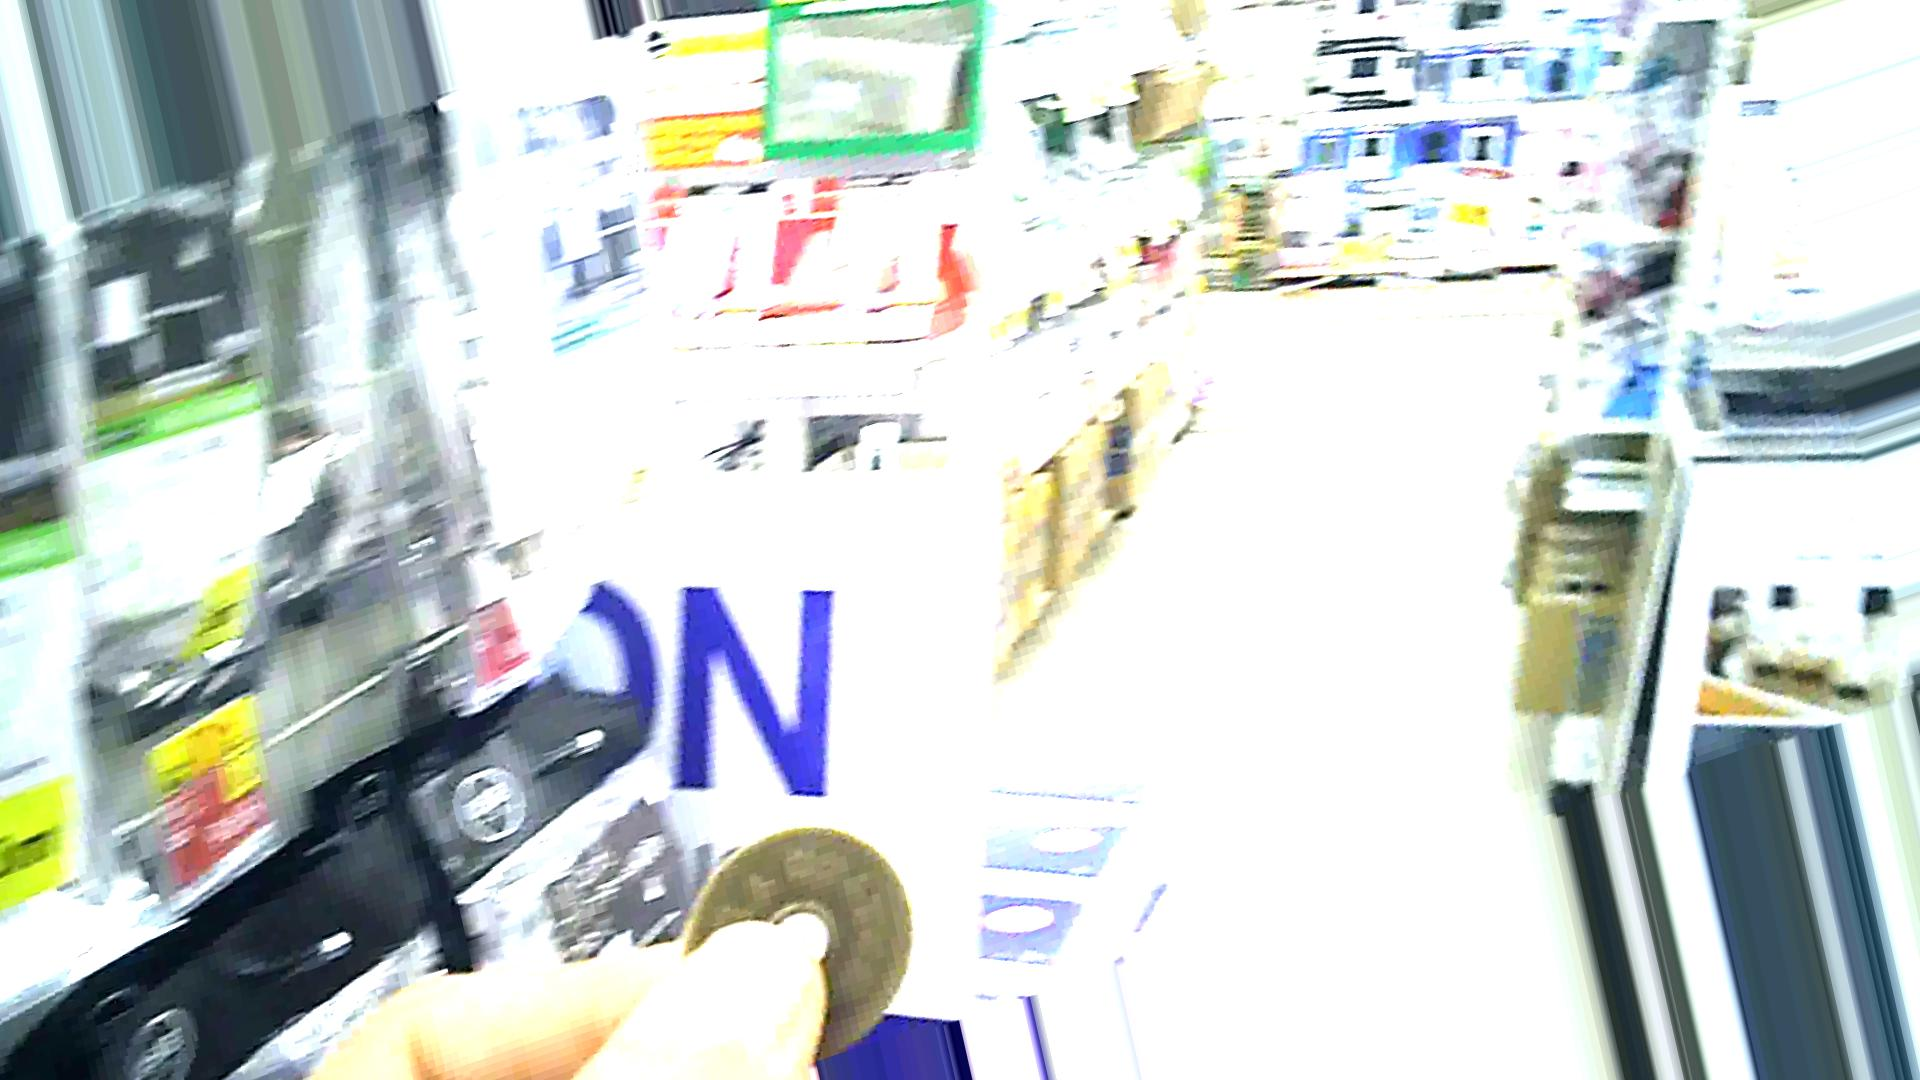5 Yen: (678, 824, 924, 1055)
